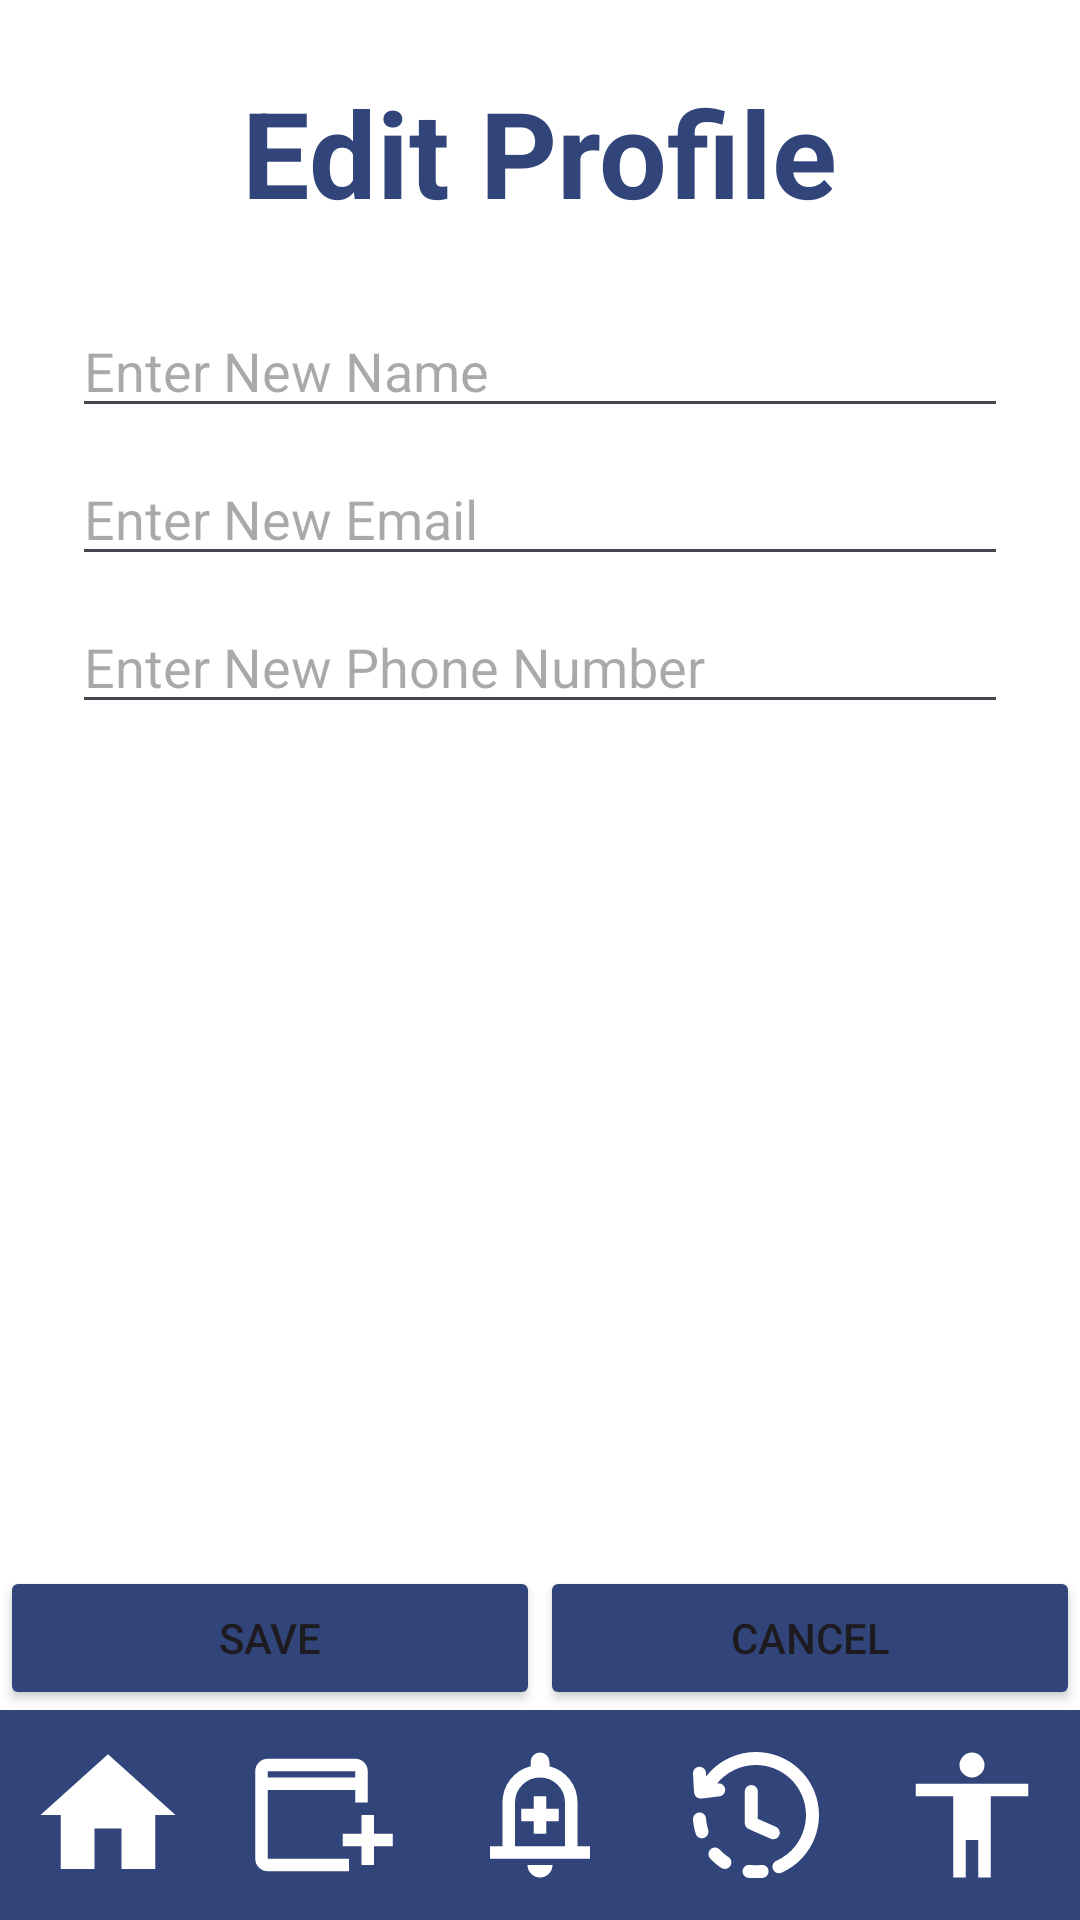

Where to tap for icons on this 1080*1920 app screen, as (x,y):
event: (324,1815)
history: (756,1815)
home: (108,1811)
notification: (540,1815)
profile: (972,1815)
